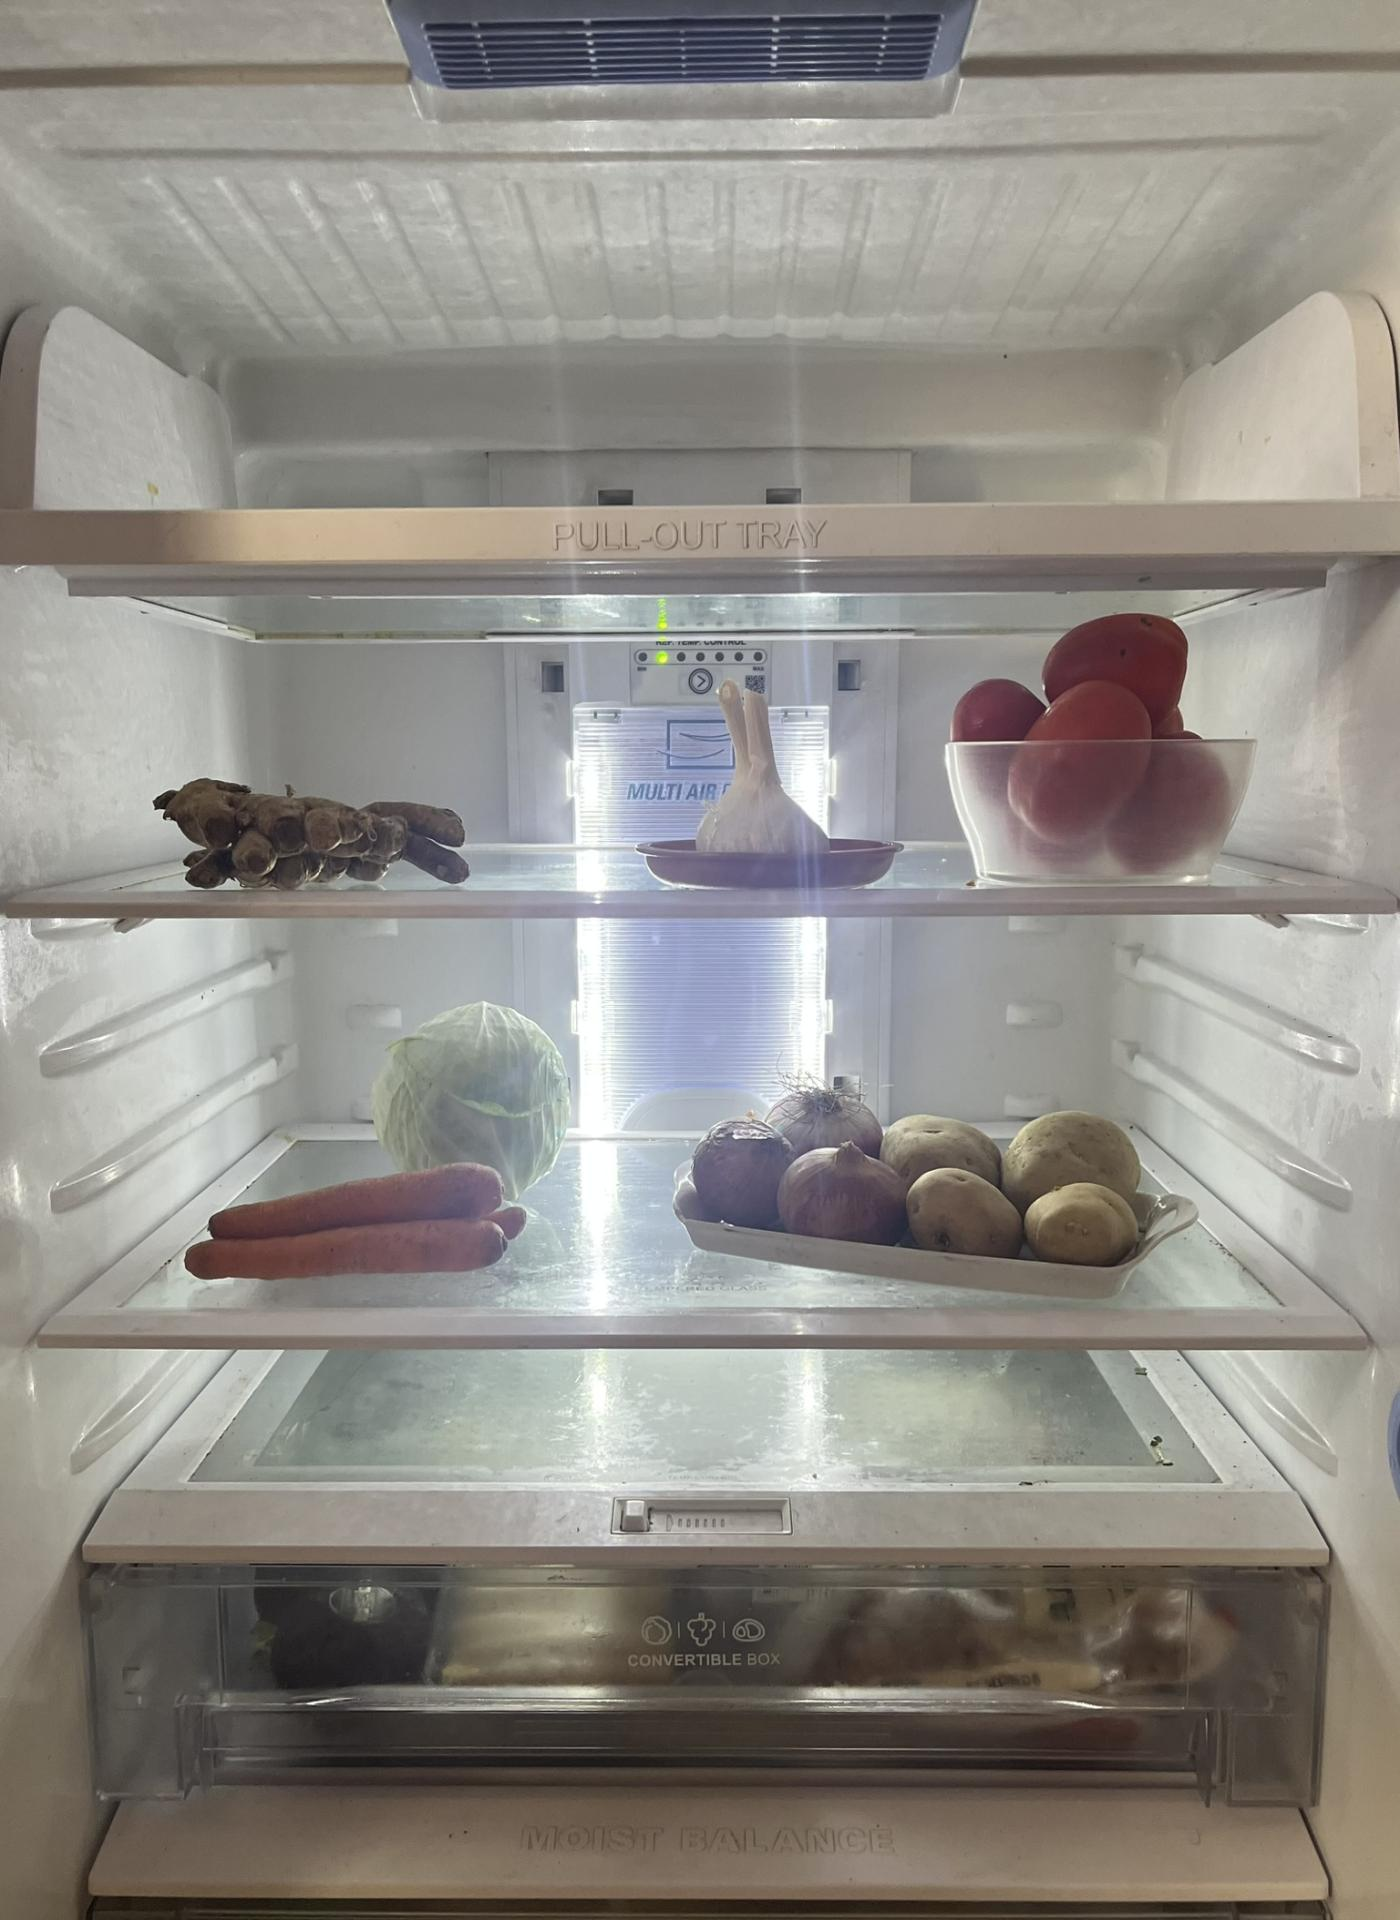cabbage: (380, 1003, 570, 1191)
carrots: (189, 1166, 535, 1280)
garlic: (698, 680, 833, 859)
ginger: (152, 775, 471, 888)
onion: (693, 1081, 902, 1237)
potato: (881, 1109, 1155, 1270)
tomato: (954, 607, 1235, 869)
